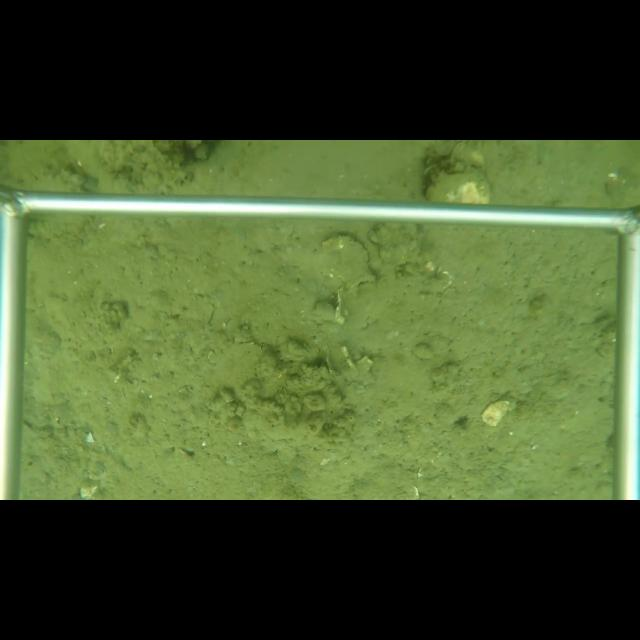Oyster-Closed: (316, 229, 378, 291), (421, 165, 493, 204)
